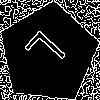L: (23, 28, 75, 80)
